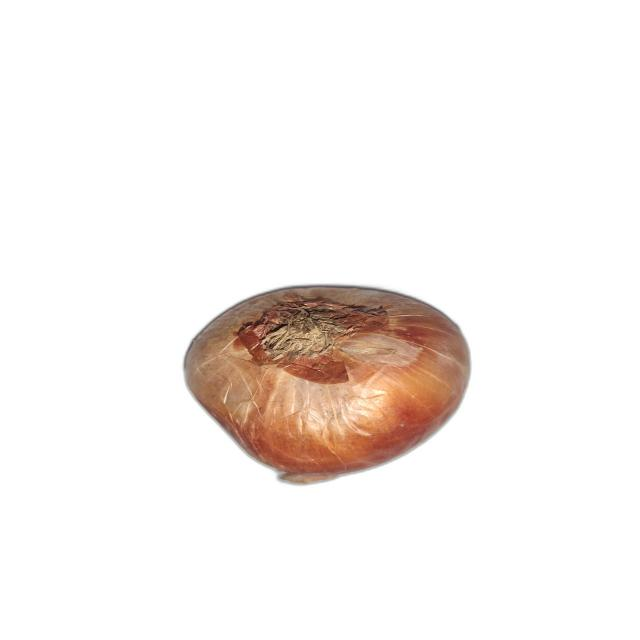onion: (182, 284, 472, 485)
